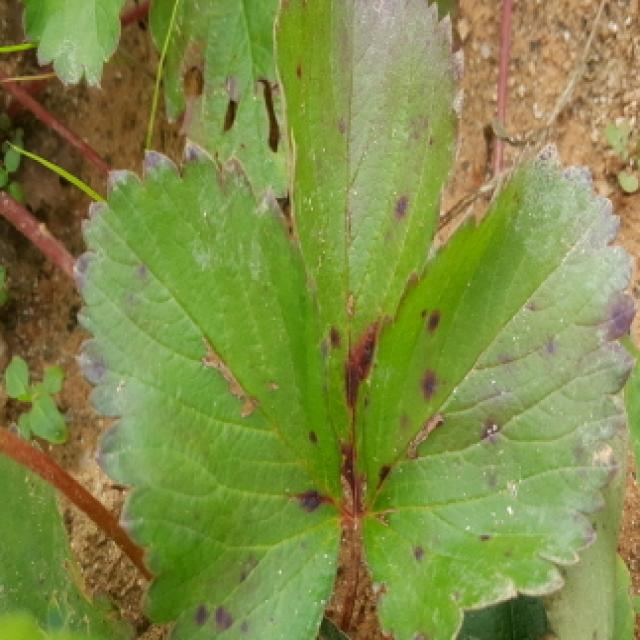Leaf Spot: (350, 140, 640, 640), (72, 135, 351, 640), (271, 0, 464, 427), (538, 489, 623, 640)
